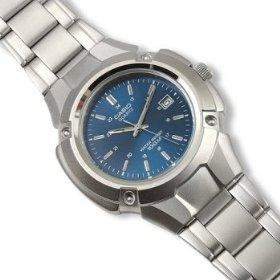watch: (56, 49, 226, 215)
